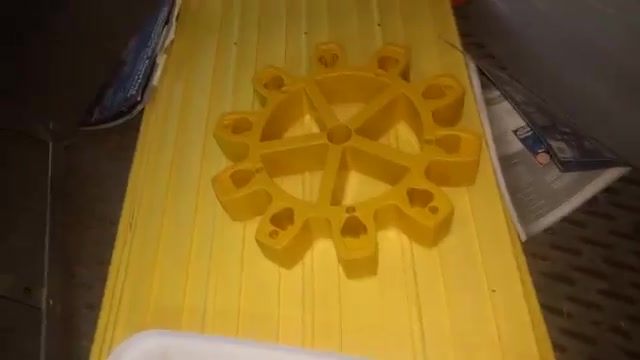gear: (186, 17, 497, 286), (198, 33, 485, 286)
